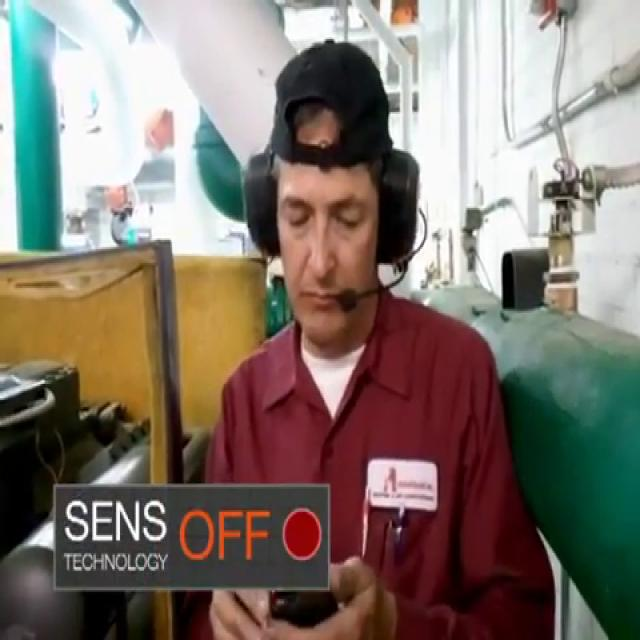earmuff: (374, 146, 424, 270), (238, 147, 284, 262)
